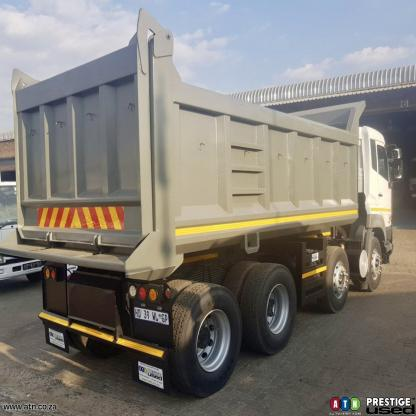dump_truck: (7, 6, 403, 398)
